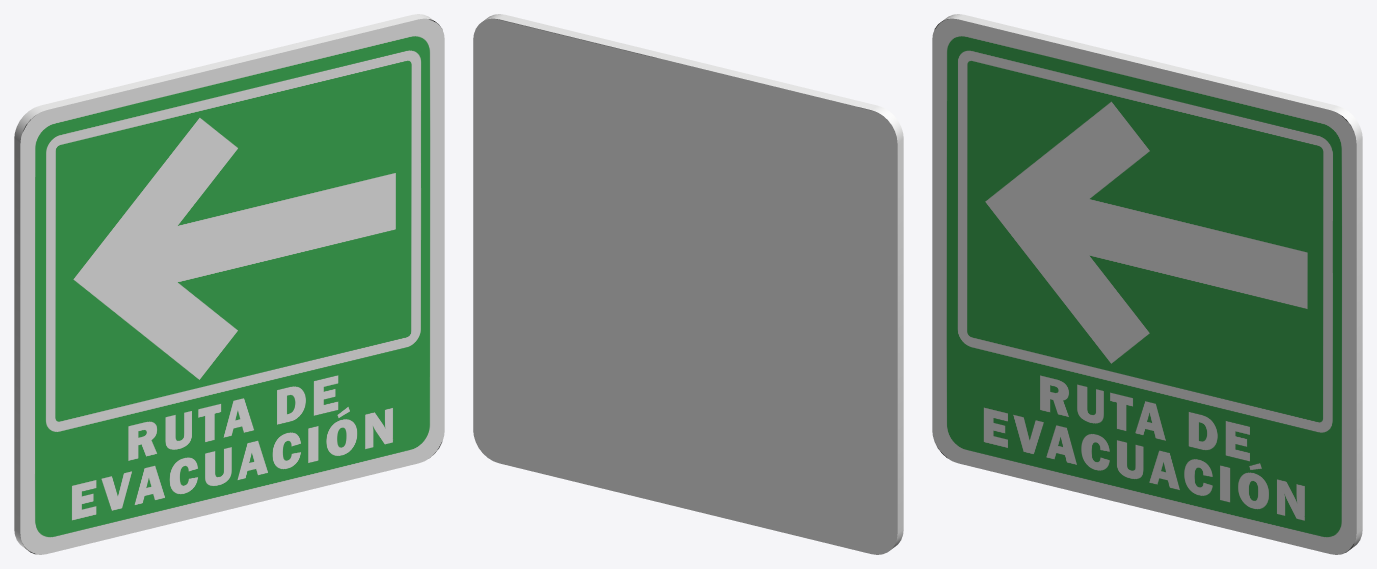
The model's file is señales5.fbx.
3 views of the same model, side by side, from view 1: azimuth 30°, elevation 25°; view 2: azimuth 150°, elevation 25°; view 3: azimuth 330°, elevation 25° (orthographic).
Bounding box in the file's own units: 20 × 20 × 0.5095.
